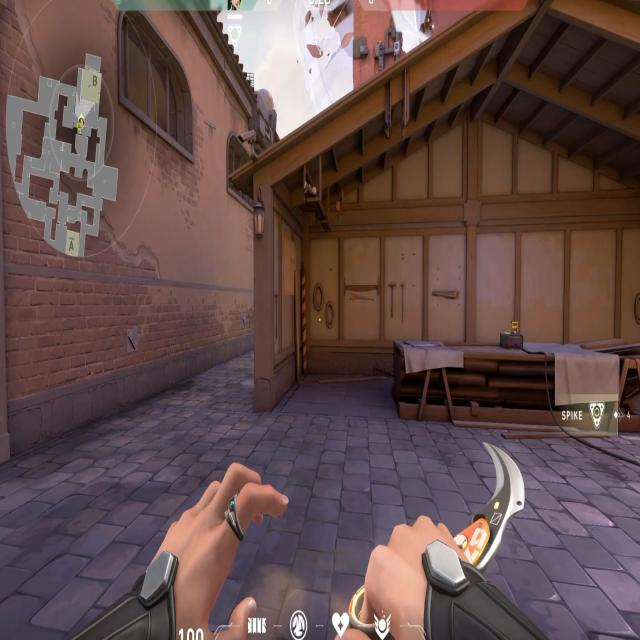B_Garage_Left: (228, 149, 421, 428)
Throwables: (100, 0, 209, 179)
